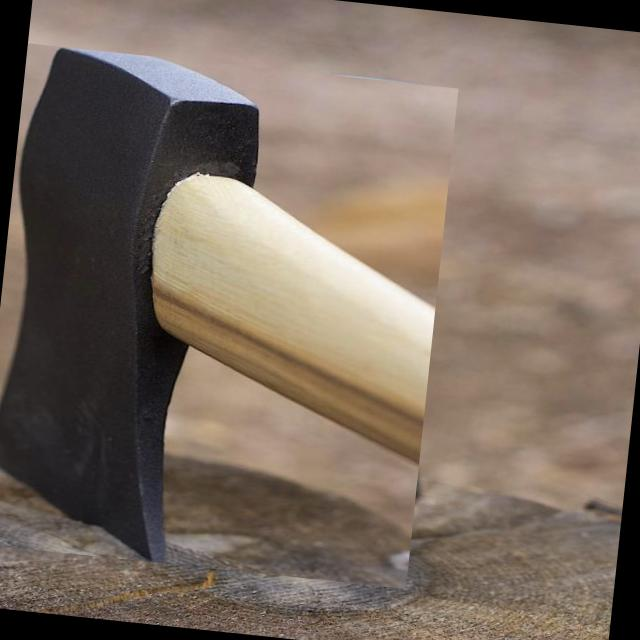Axe: (0, 48, 435, 562)
